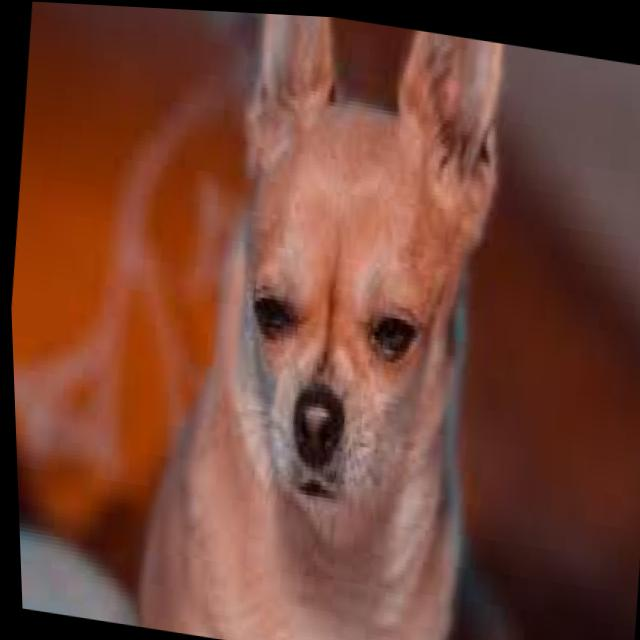dog: (115, 6, 525, 640)
